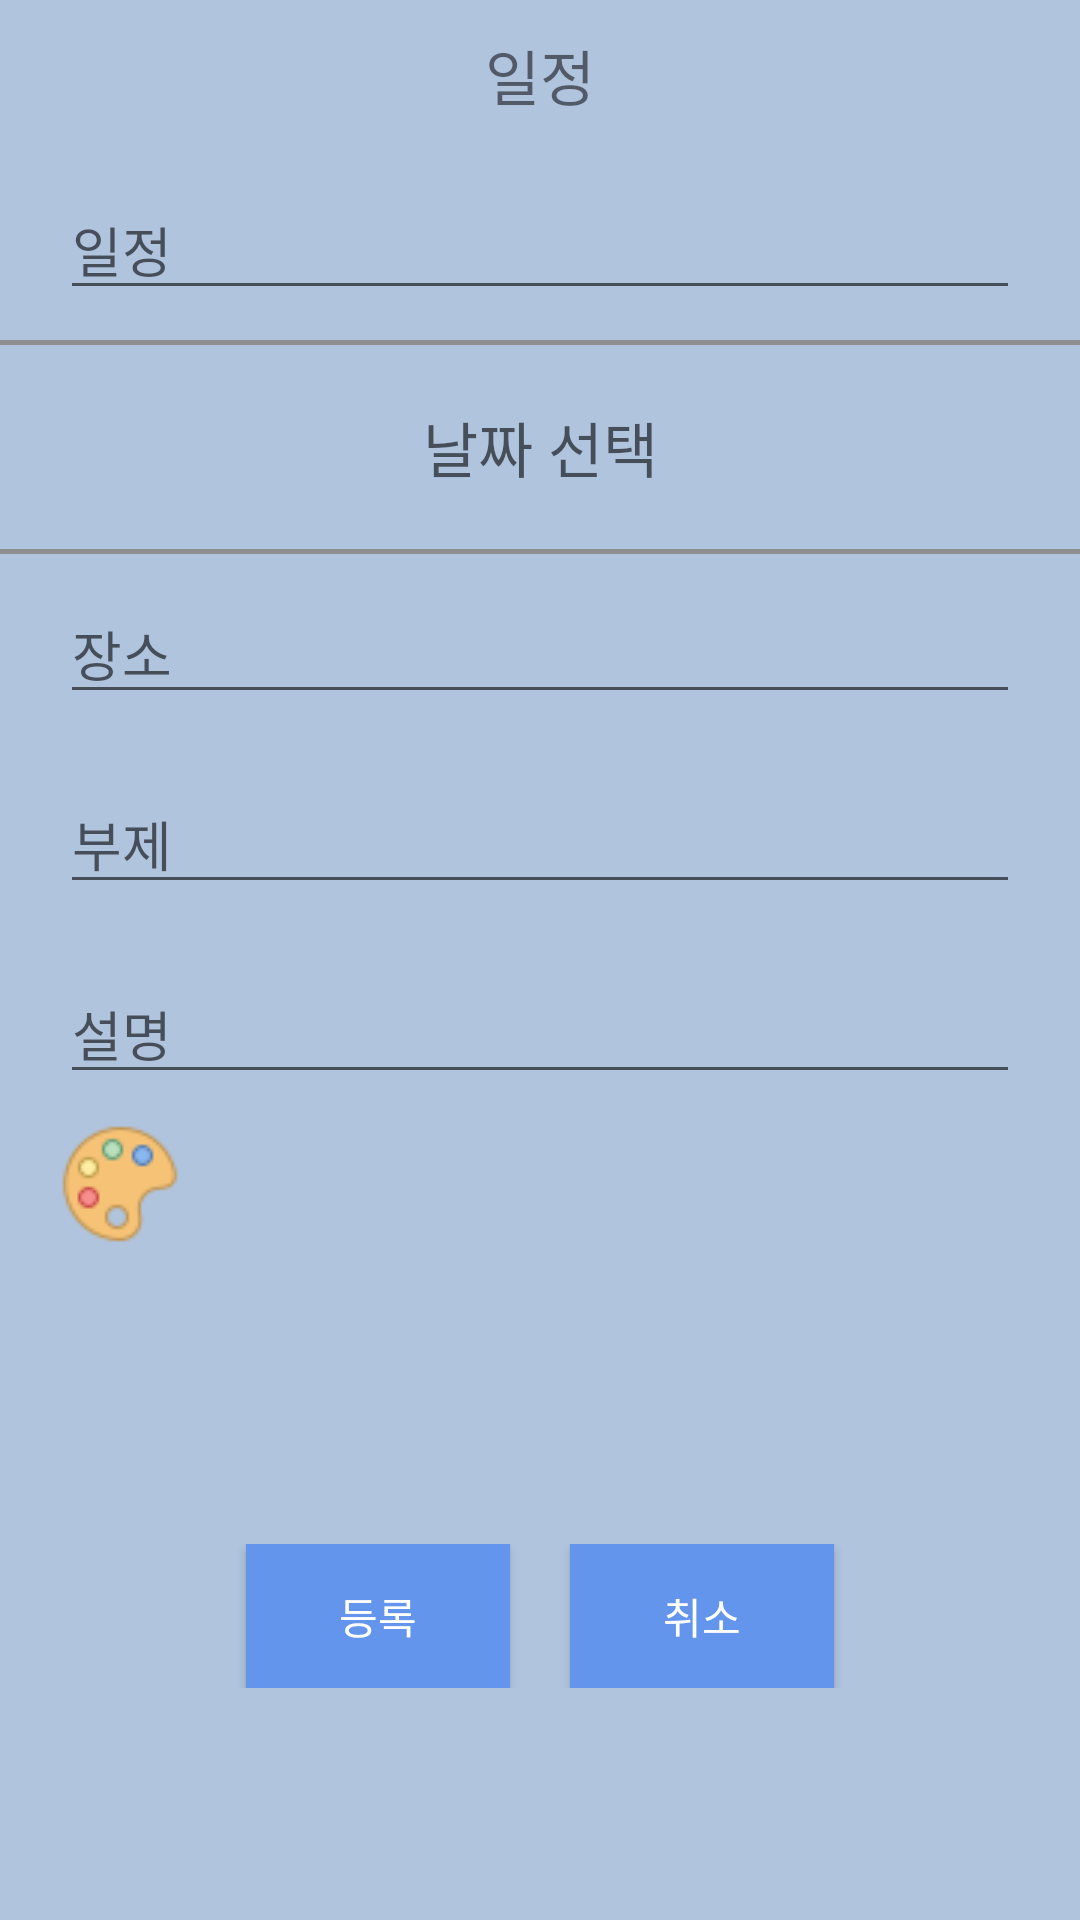

Icon click points for this 1080w x 1920h phone screenshot, format [x,y]:
paint palette: [120,1184]
